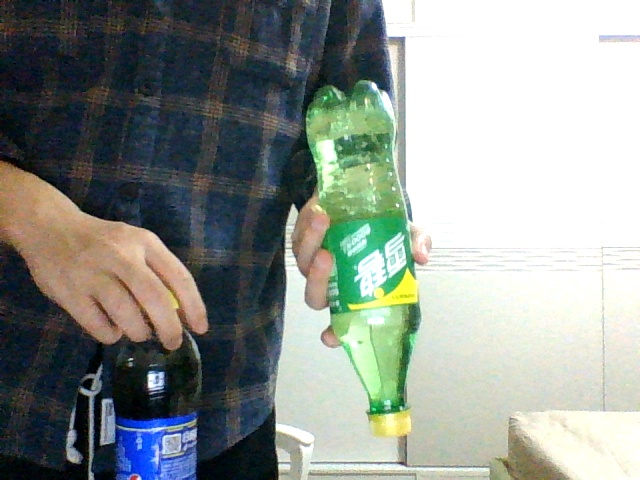Cola: (111, 292, 200, 477)
Sprite: (305, 82, 421, 437)
